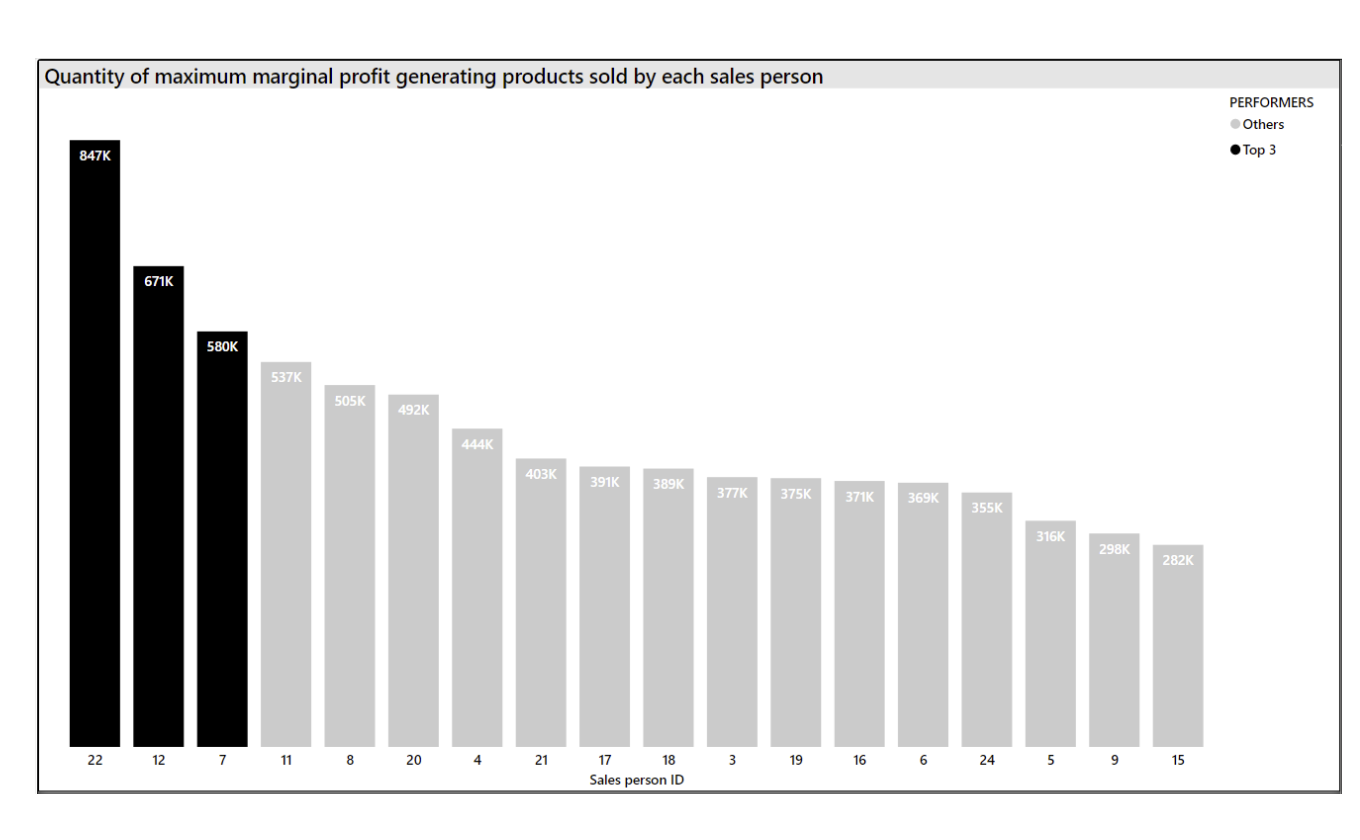

This screenshot's page, from the dashboard's own definition file:
{"tool":"powerbi","page":{"name":"Quantity of marginal products by ID","canvas":[1280,720],"ordinal":12},"visuals":[{"type":"columnChart","title":"Quantity of maximum marginal profit generating products sold by each sales person","fields":{"Category":["Customers.salespeople_unique_identification"],"Series":["Customers.PERFORMER_ID"],"Y":["Sum(Transactions.QUANTITY)"]},"box":[0,0,1280,719.8],"z":0}]}

Visuals, with their boxes on the page's 1280x720 design canvas (x1, y1, x2, y2). These are canvas units, not pixel positions in the 1360x840 screenshot, which may show the page scaled, cropped or inside an application window:
"Quantity of maximum marginal profit generating products sold by each sales person" columnChart: (0, 0, 1280, 720)
